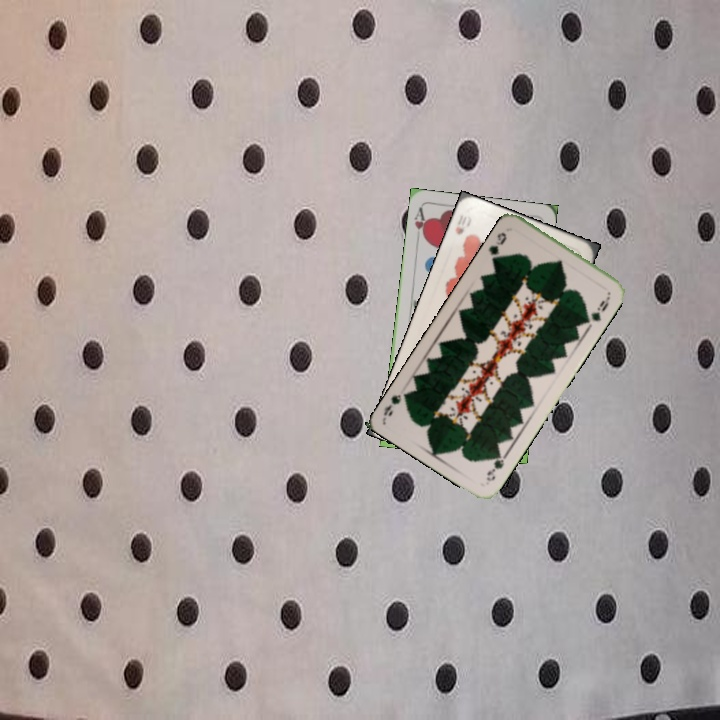G9: (482, 449, 510, 484), (484, 228, 509, 264)
H10: (451, 212, 474, 238)
HA: (410, 204, 430, 244)
